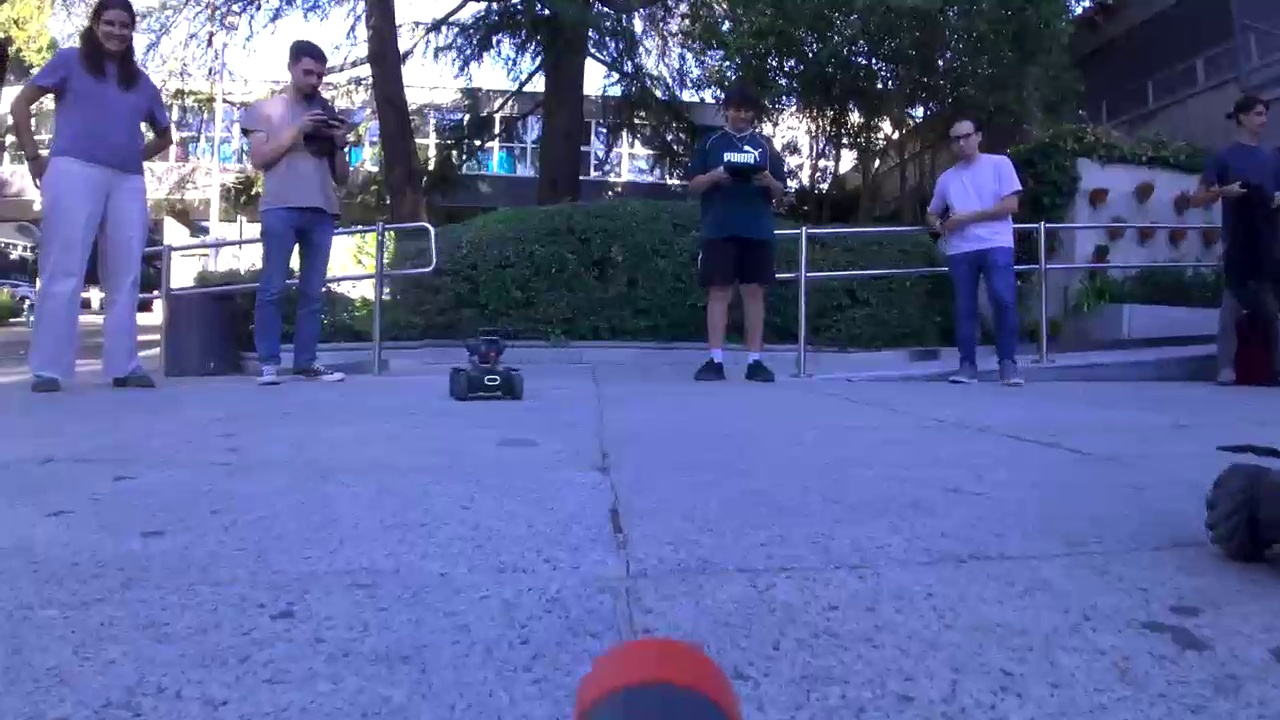robot: (449, 324, 524, 403)
